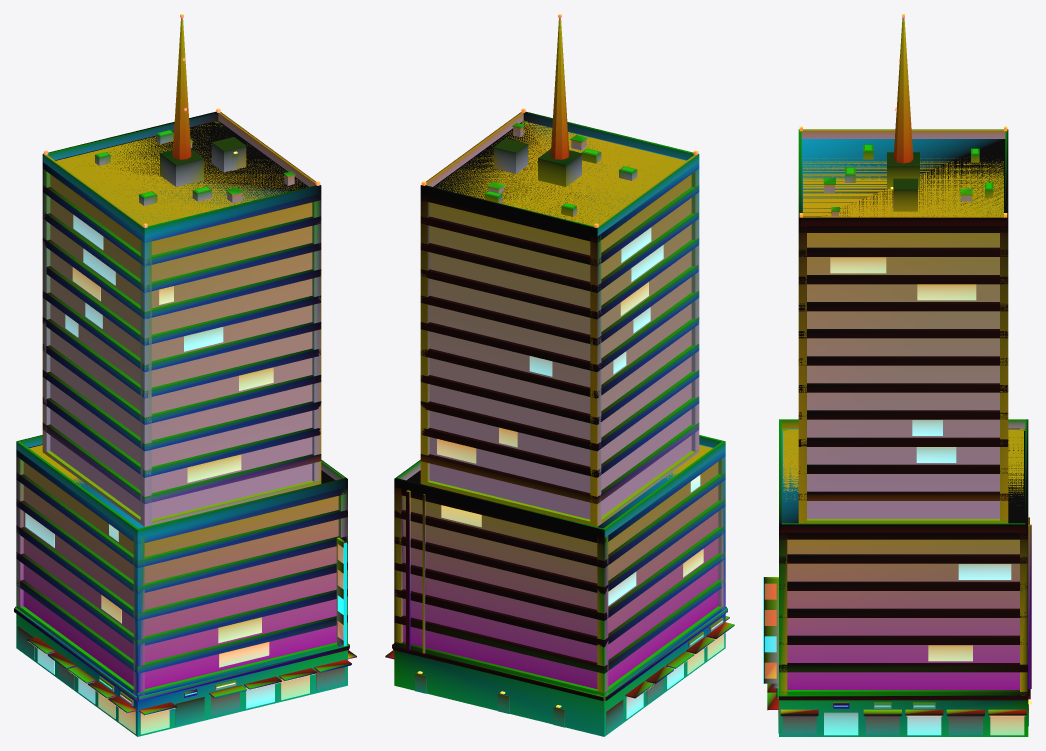
Rendered from Tower_Pad_V2.fbx.
3 renders of one model, left to right at view 1: azimuth 30°, elevation 25°; view 2: azimuth 150°, elevation 25°; view 3: azimuth 270°, elevation 25°, orthographic. The views are drawn at different scales.
Visible parts, largest first — view 1: Tower_Pad_V2_LOD0; view 2: Tower_Pad_V2_LOD0; view 3: Tower_Pad_V2_LOD0.
Part boxes in pixels (left/top/right/bottom): Tower_Pad_V2_LOD0: left=14, top=14, right=356, bottom=736; Tower_Pad_V2_LOD0: left=385, top=14, right=734, bottom=736; Tower_Pad_V2_LOD0: left=763, top=14, right=1031, bottom=736.
Size of what is drawn, in the model's own units: 32.8 by 88.92 by 32.31.
